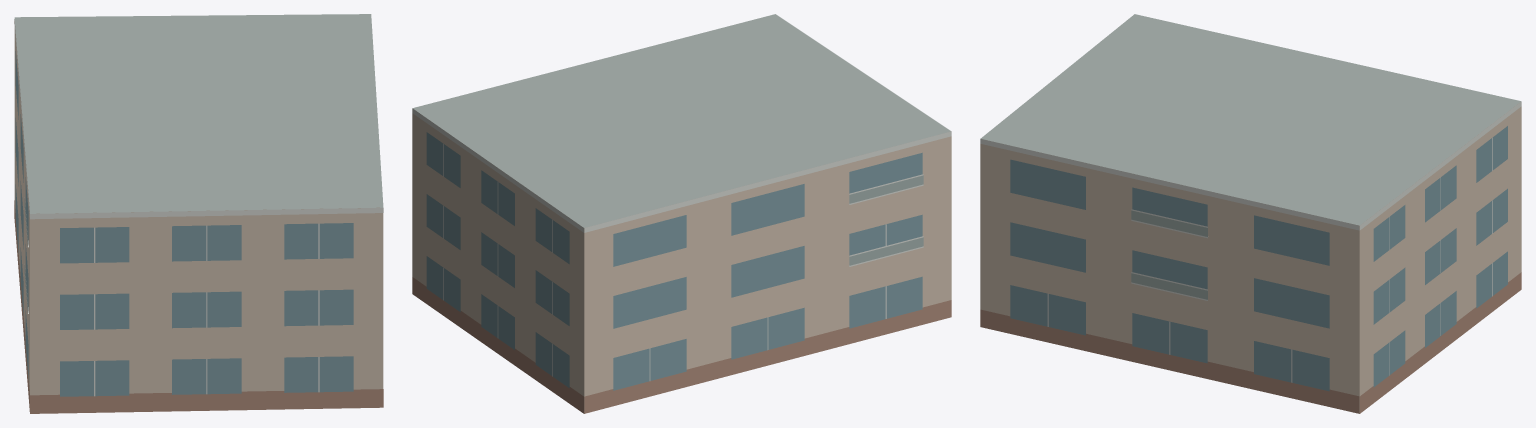
File: survey-upis-32888751.glb
The picture shows the model from 3 angles, left to right: view 1: azimuth 30°, elevation 25°; view 2: azimuth 150°, elevation 25°; view 3: azimuth 270°, elevation 25°; orthographic projection. The views are drawn at different scales.
Visible parts, largest first — view 1: survey-upis-32888751.tmp; view 2: survey-upis-32888751.tmp; view 3: survey-upis-32888751.tmp.
Part boxes in pixels (x1=…): survey-upis-32888751.tmp: x1=14, y1=14, x2=383, y2=413; survey-upis-32888751.tmp: x1=412, y1=14, x2=951, y2=413; survey-upis-32888751.tmp: x1=980, y1=14, x2=1521, y2=413.
Bounding box in the file's own units: 22.07 × 9.15 × 23.85.
